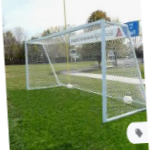goals: (22, 17, 147, 122)
